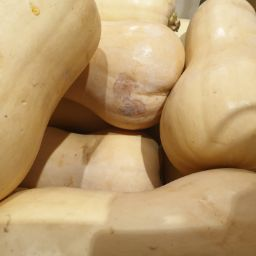Butternut Squash: (1, 1, 256, 256), (107, 3, 256, 176), (3, 1, 113, 198)
